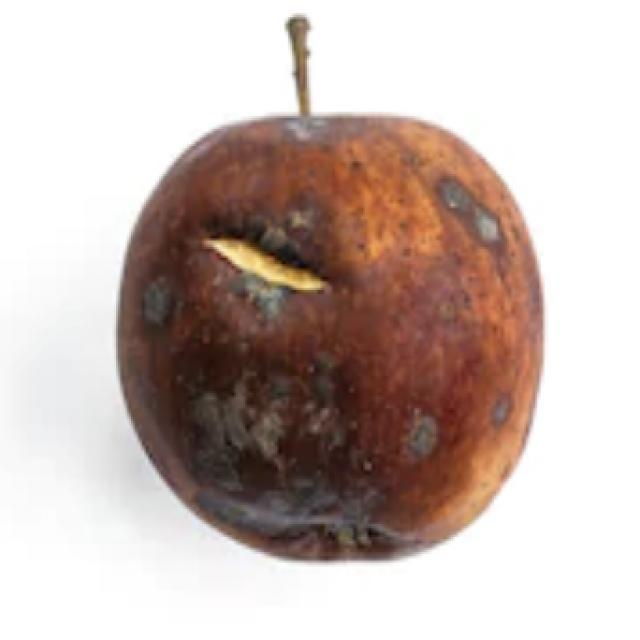Rotten: (138, 125, 558, 558)
